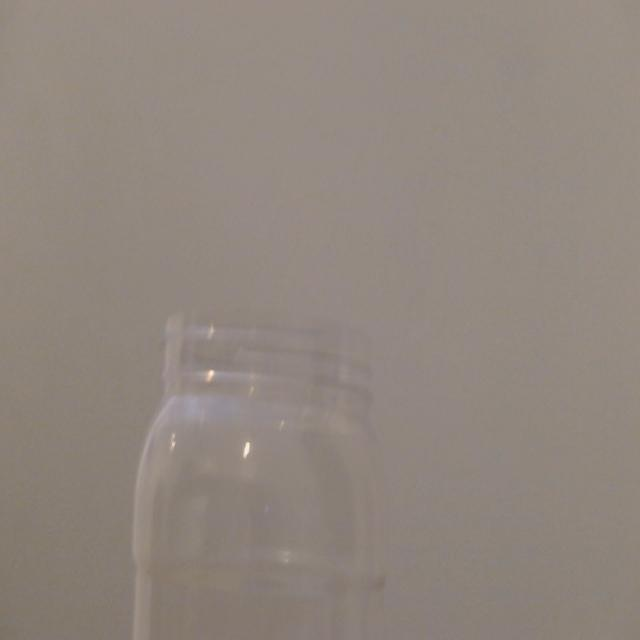missing_cap: (133, 290, 406, 438)
